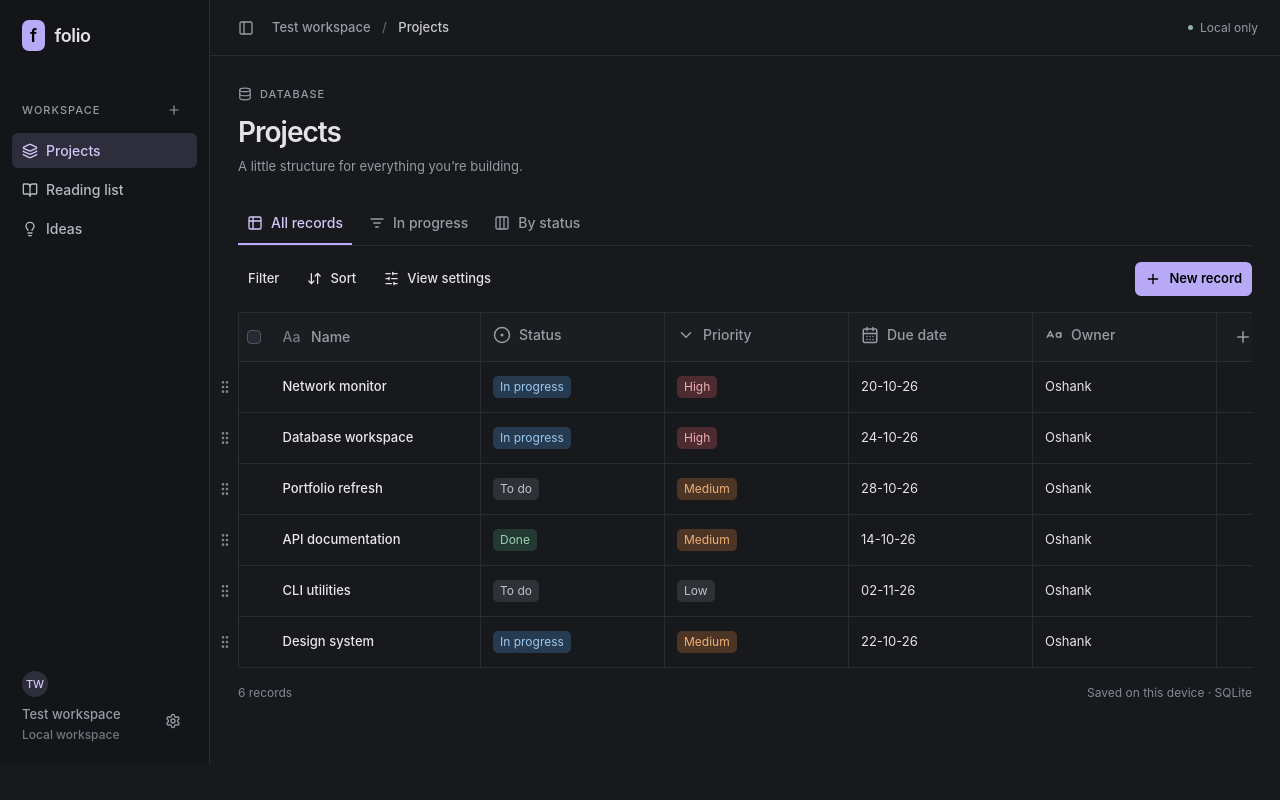
Test: dynamic columns › adds an option inline and immediately selects the returned stable id
expect the heading "Projects" is shown: met, box x1=238 y1=114 x2=341 y2=148
Click the button with aria-label "Priority for Network monitor" at (757, 386), box x1=677 y1=374 x2=837 y2=398
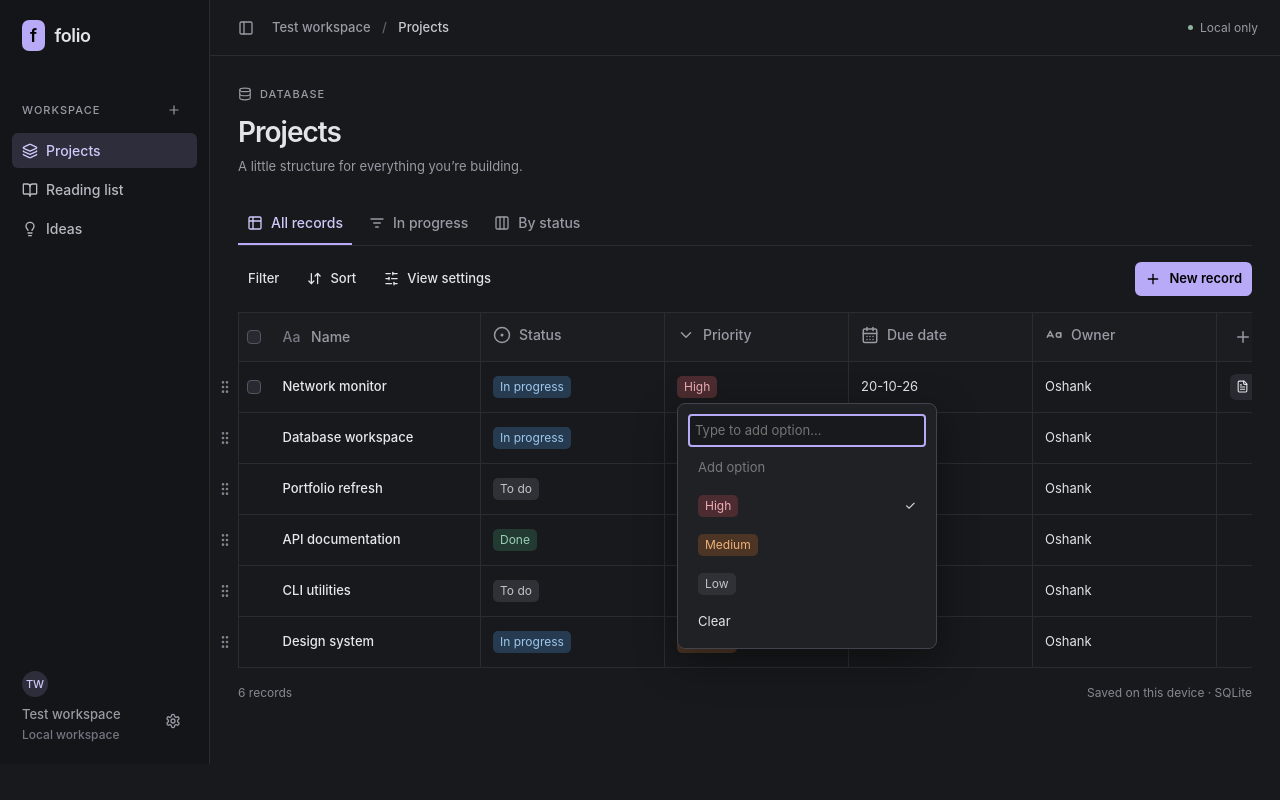
Type "Urgent" into the field with placeholder "Type to add option…" at (807, 430), box x1=688 y1=414 x2=926 y2=447
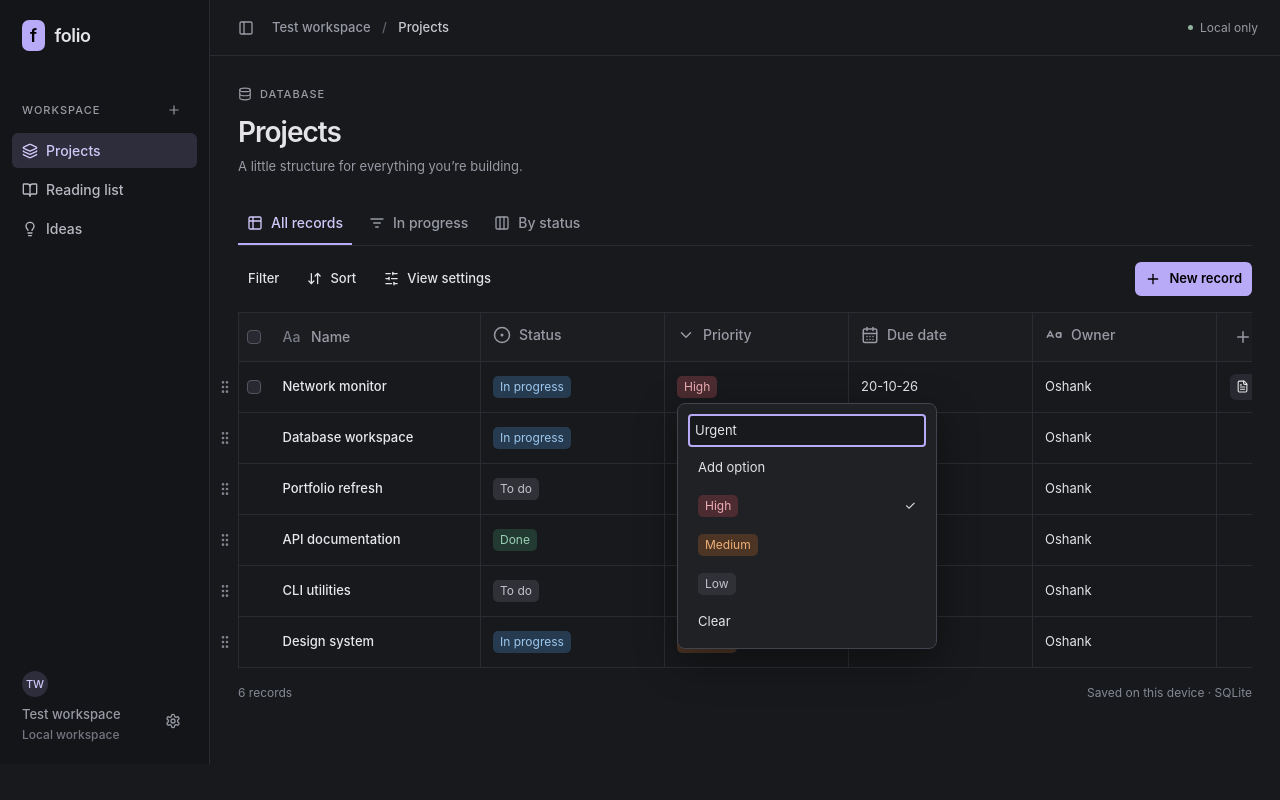
Click the button "Add option" at (732, 468), box x1=688 y1=451 x2=775 y2=484
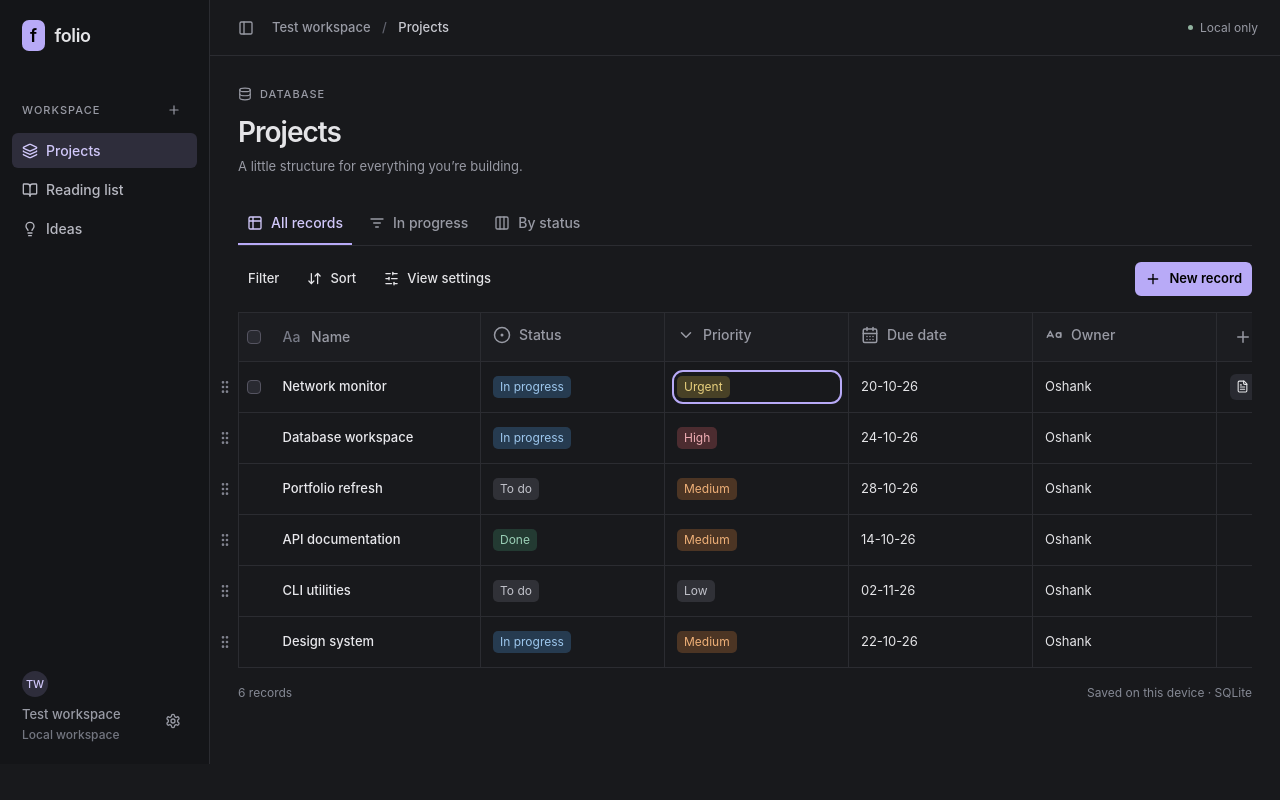
expect the button with aria-label "Priority for Network monitor" reads "Urgent": met, box x1=677 y1=374 x2=837 y2=398
